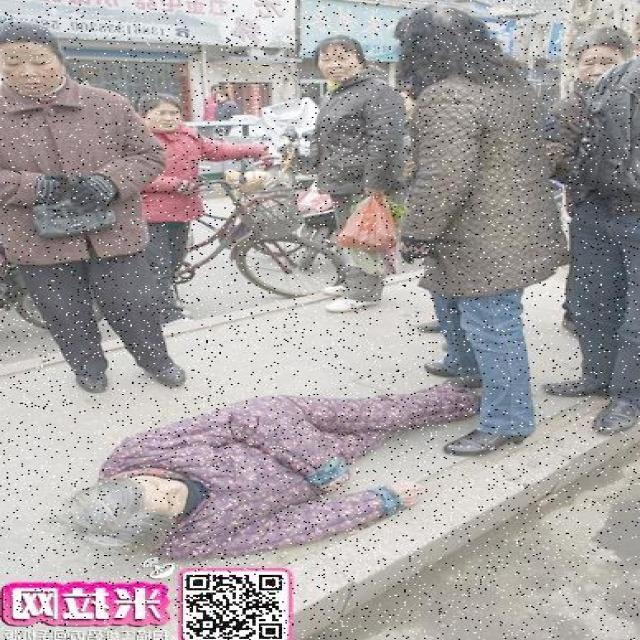fall: (59, 380, 483, 560)
